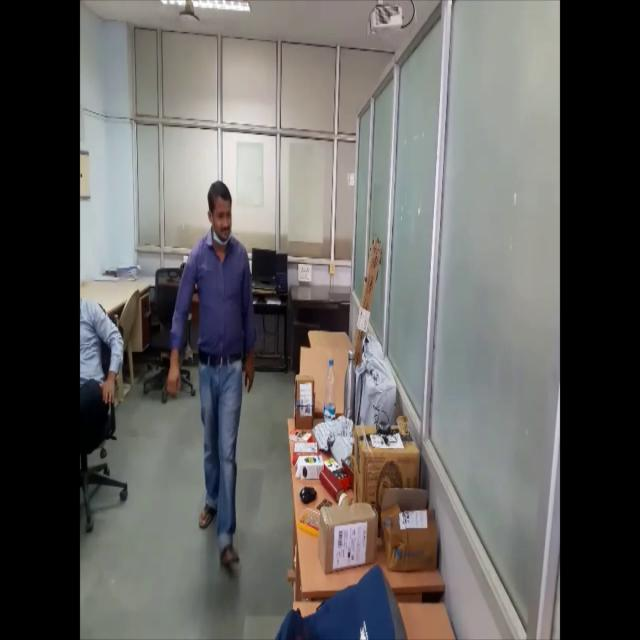normal: (154, 150, 270, 576)
